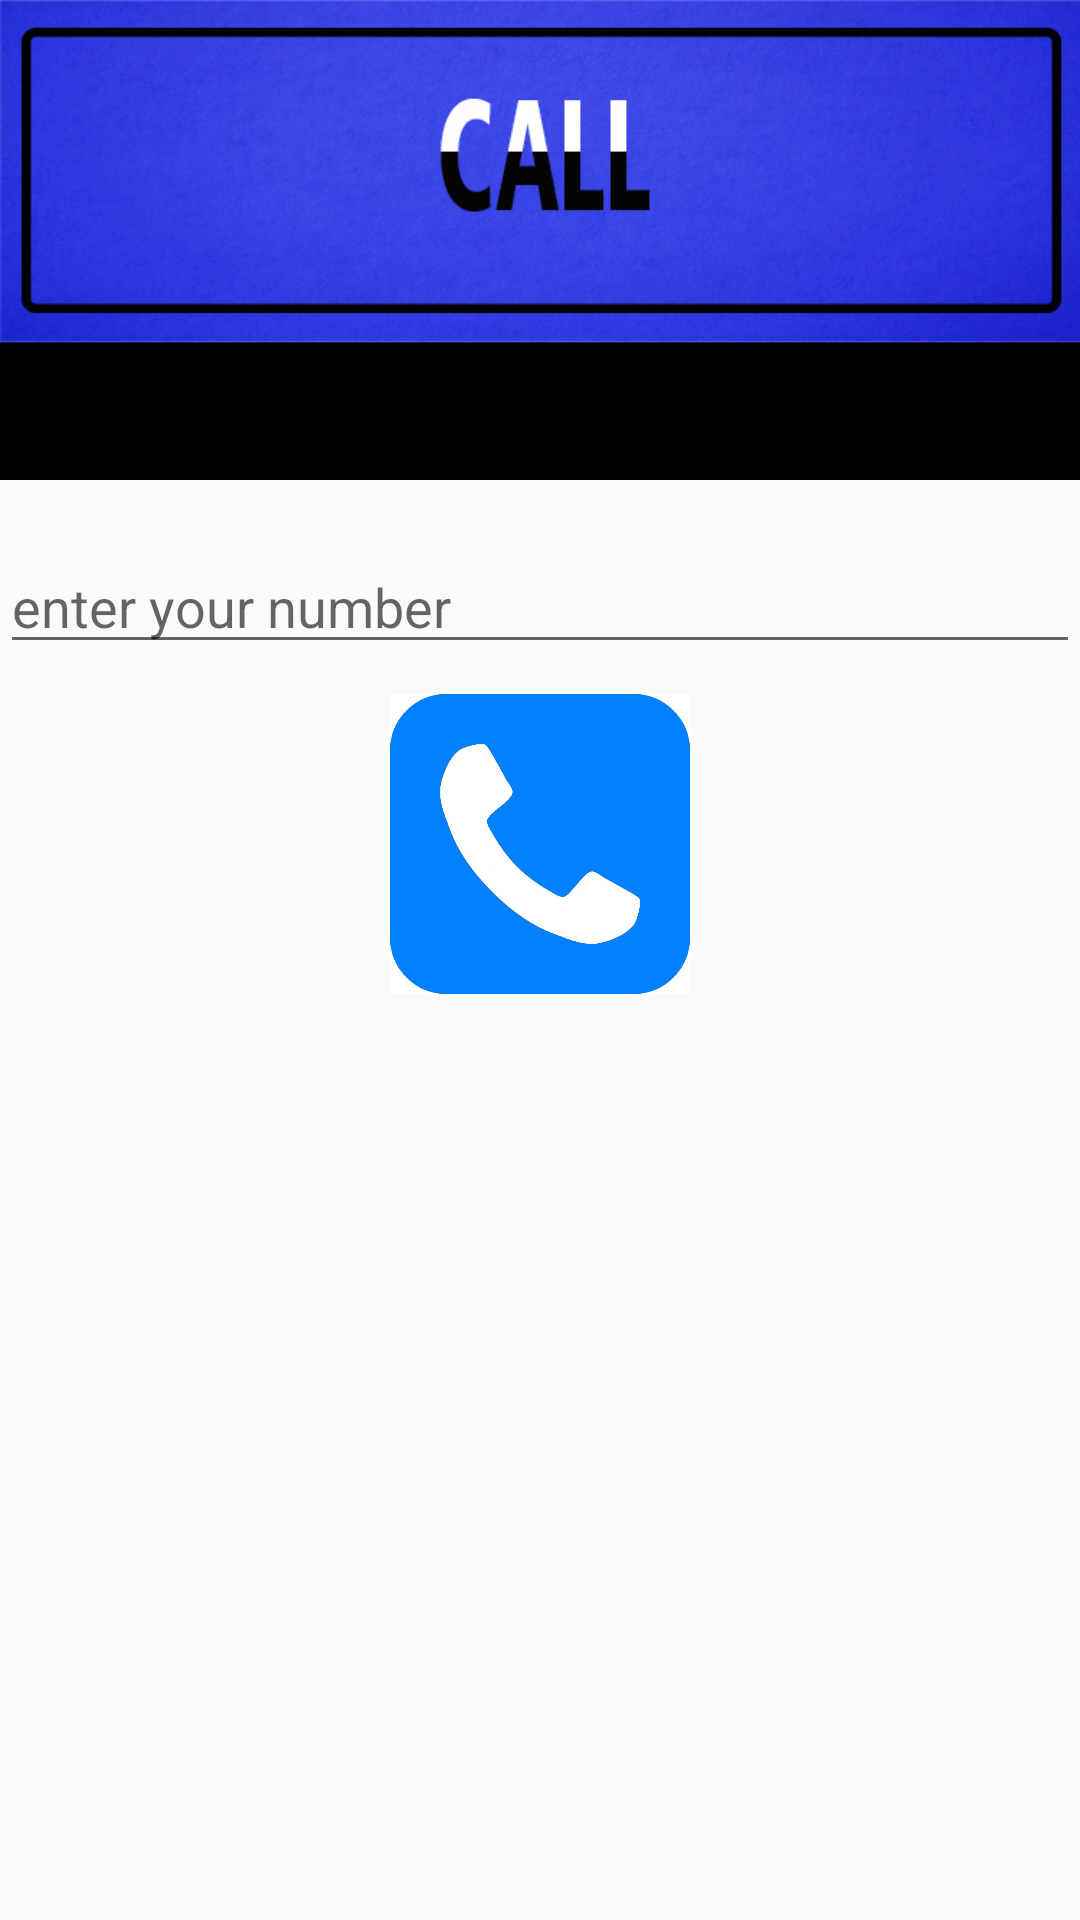

Where icons sit on this 1080 x 1920 app screen, as {"left": x1, "top": y1, "right": x2, "bottom": y2}:
callbutton: {"left": 390, "top": 694, "right": 690, "bottom": 994}
